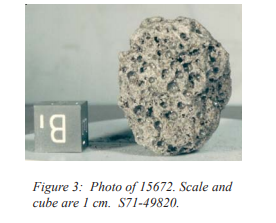Basalt: (115, 20, 229, 153)
